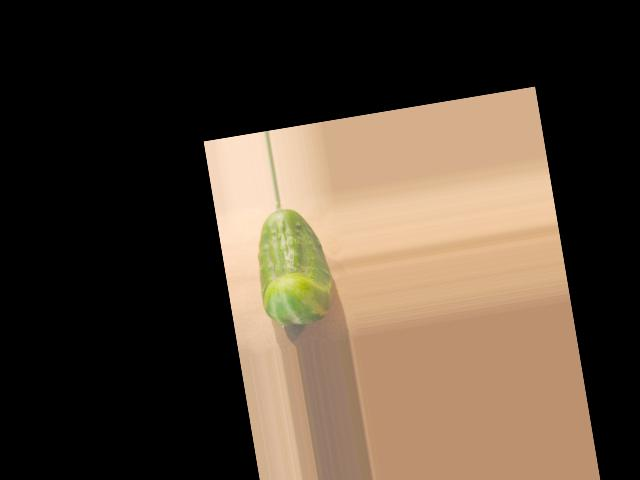cucumber: (247, 203, 337, 330)
